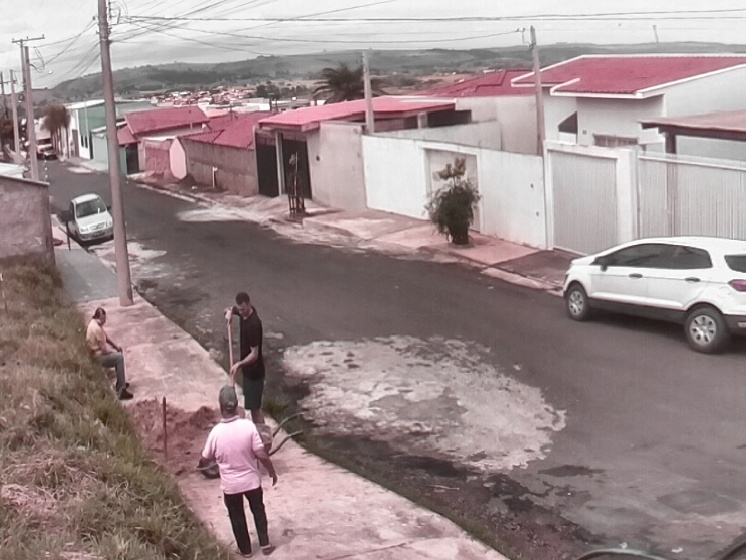person: (200, 384, 279, 556), (223, 291, 267, 426), (85, 307, 132, 401)
